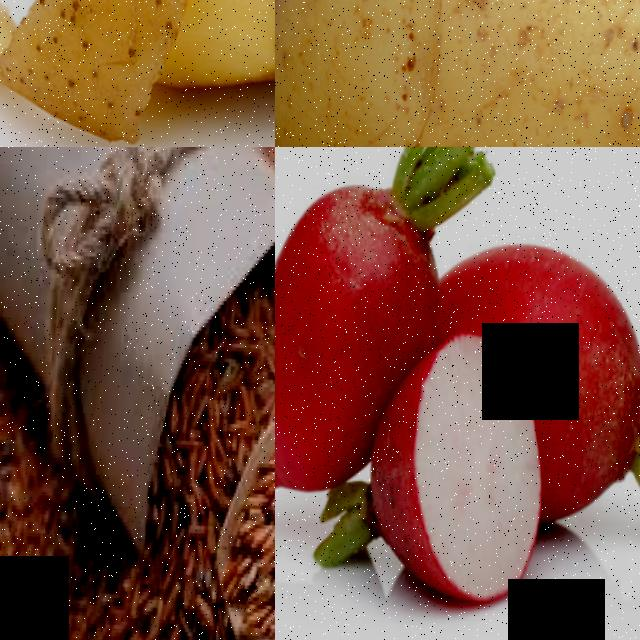potato: (275, 0, 640, 147), (8, 0, 275, 144)
radishes: (379, 205, 640, 640), (275, 147, 448, 503)
red rice: (226, 406, 275, 640)
